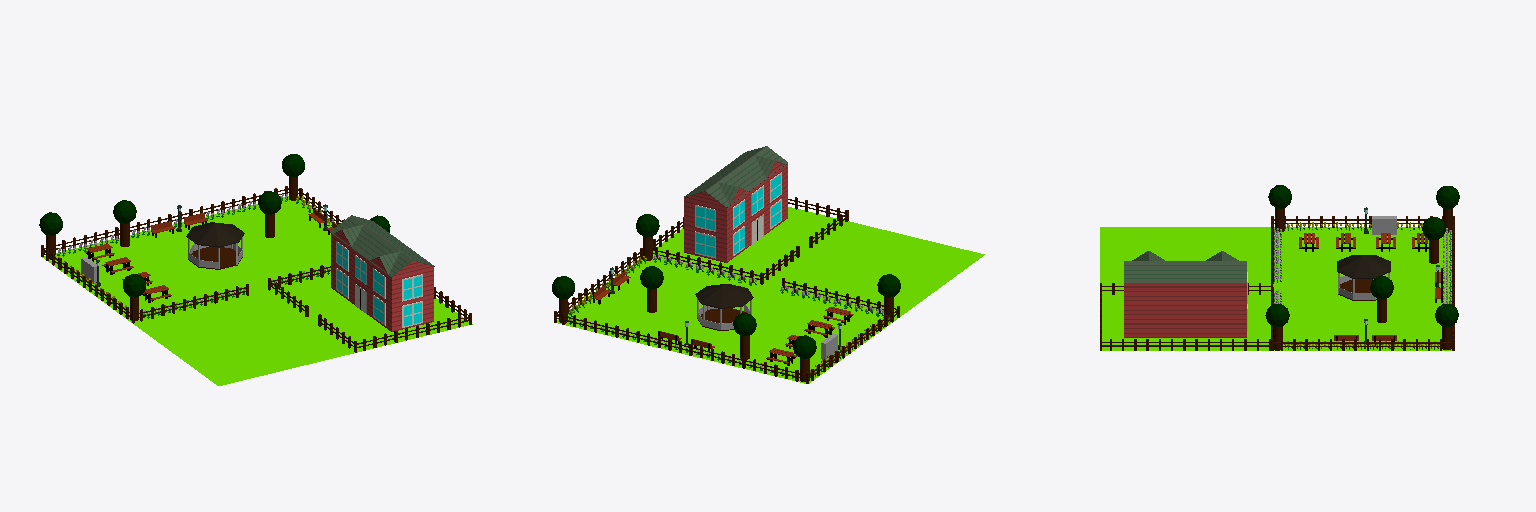
The picture shows the model from 3 angles: view 1: azimuth 30°, elevation 25°; view 2: azimuth 150°, elevation 25°; view 3: azimuth 270°, elevation 25°; orthographic projection.
Visible parts, largest first — view 1: tree2.002_Cylinder.004; view 2: tree2.002_Cylinder.004; view 3: tree2.002_Cylinder.004.
Boxes of the visible parts, x1,y1,x2,y2 form: tree2.002_Cylinder.004: [39, 154, 472, 385]; tree2.002_Cylinder.004: [552, 146, 984, 383]; tree2.002_Cylinder.004: [1100, 185, 1459, 350].
Size of the model in its own units: 24.82 by 6.04 by 29.44.
Materials: 15 (2 with a texture image).